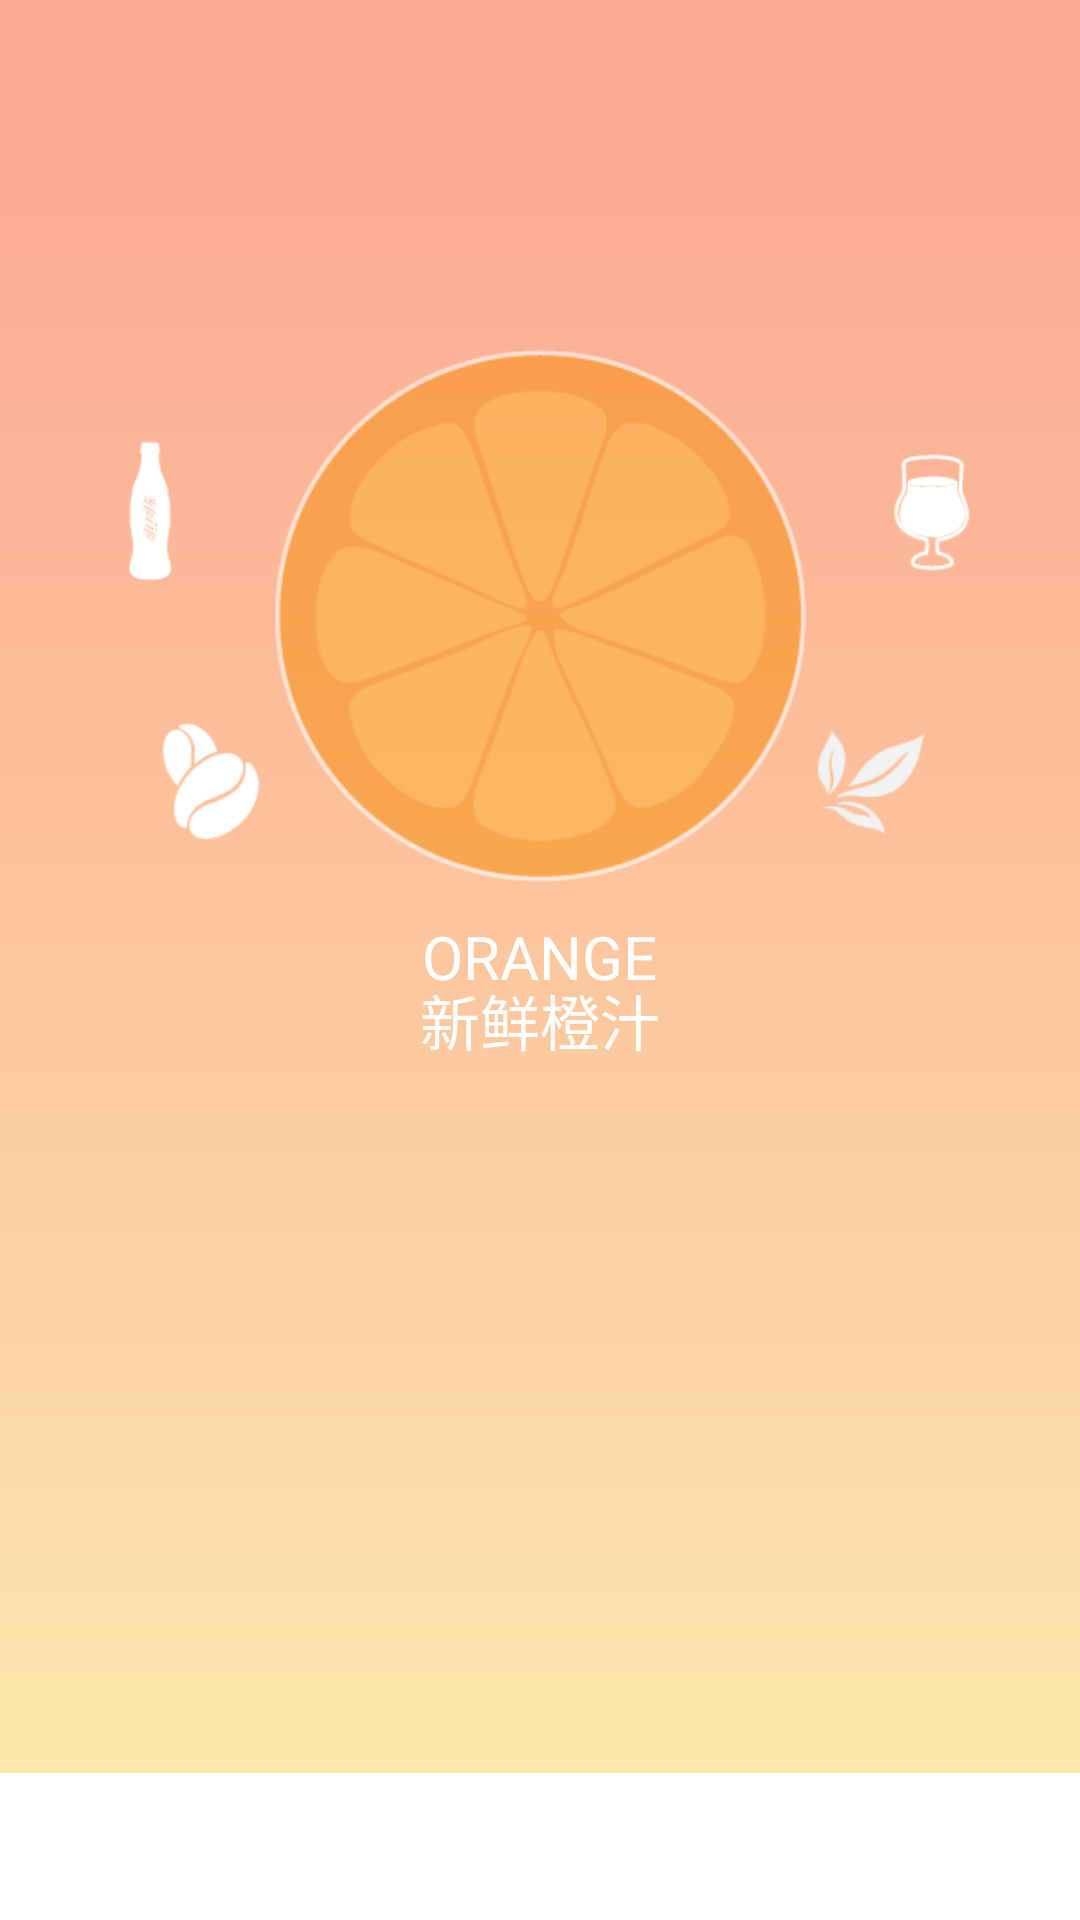

Point at icon controls on the screen. Image size 1080 × 1920, points as [x,y].
coffee: [210,781]
tea: [871,782]
wine: [932,512]
